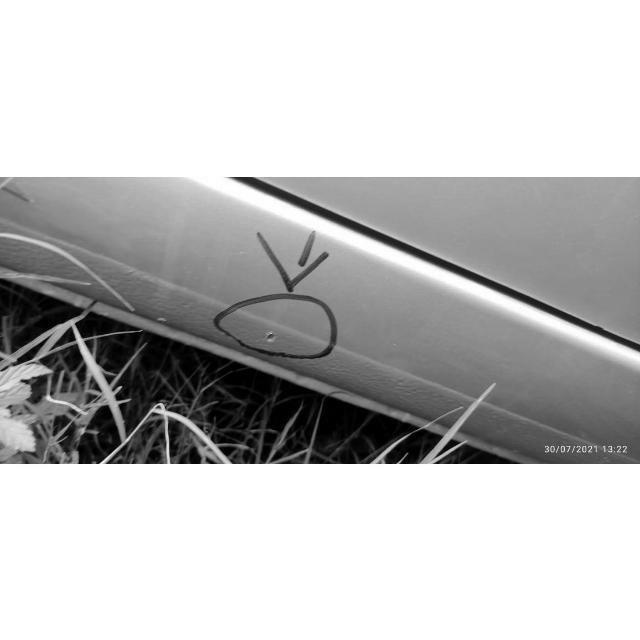Runningboard-Damage: (183, 178, 514, 430)
